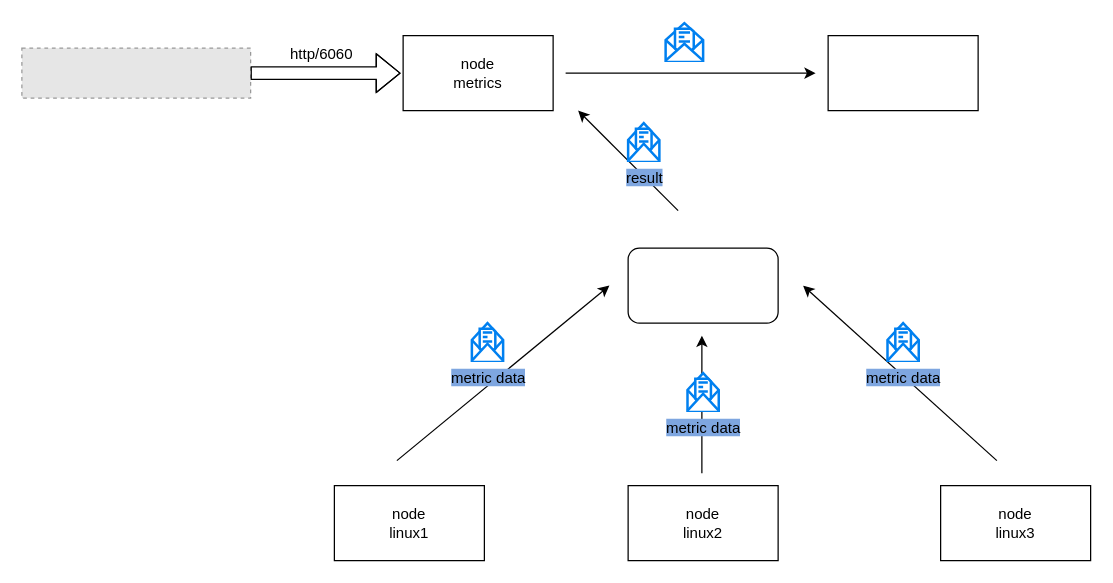
The diagram is 1113 pixels wide and 583 high, and some of its shapes have lost their labels. Grey dashed boxes stand in for pictures. Each missing label, with the box of its shape:
NATS Server: (627, 247, 778, 323)
node central: (827, 34, 978, 111)
to audit log: (664, 21, 704, 61)
